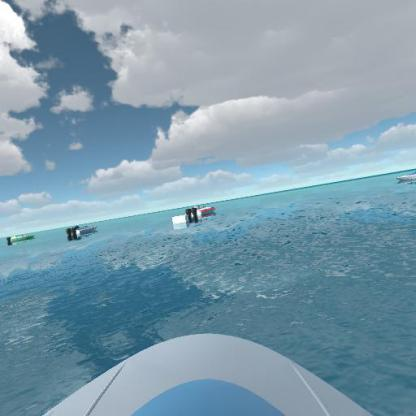usv0: (4, 231, 36, 248)
usv1: (65, 222, 101, 239), (390, 166, 415, 185)
usv3: (184, 199, 219, 222)
